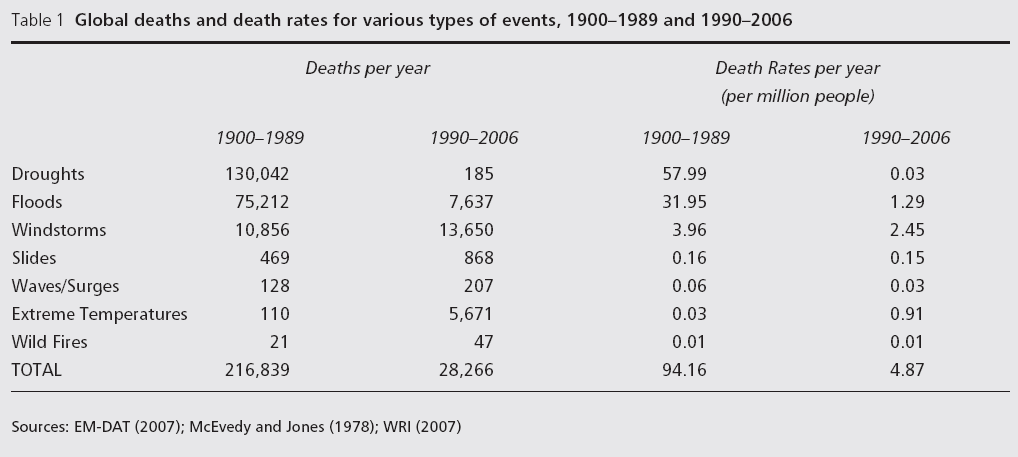fracking table: (10, 42, 1009, 396)
